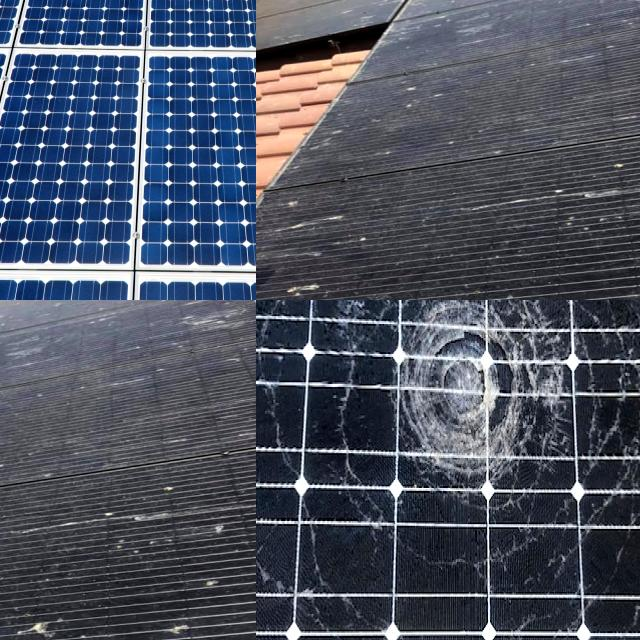bird: (256, 188, 383, 247), (74, 488, 162, 570), (524, 165, 612, 246), (190, 522, 256, 599), (256, 263, 374, 300), (0, 511, 66, 570), (177, 300, 256, 340), (397, 66, 452, 118), (0, 586, 60, 627), (0, 614, 93, 640), (142, 625, 251, 640), (0, 388, 27, 440)
crack: (0, 24, 181, 289), (0, 27, 150, 300), (109, 29, 256, 295), (12, 0, 162, 83), (129, 0, 256, 86), (0, 0, 89, 98)
hotspot: (388, 300, 548, 496)
